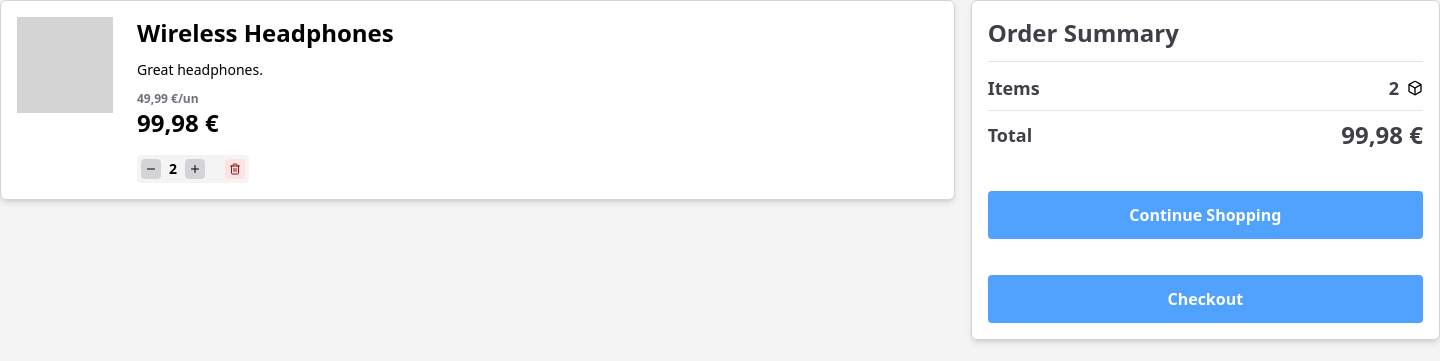
Test: CartFeature › should remove item when remove button is clicked
The width and height of the screenshot is (1440, 361).
What coordinates should you click on to do the following:
click the button named "Remove Wireless Headphones from cart"
I would click on:
 (235, 168)
Its box is [225,158,245,178].
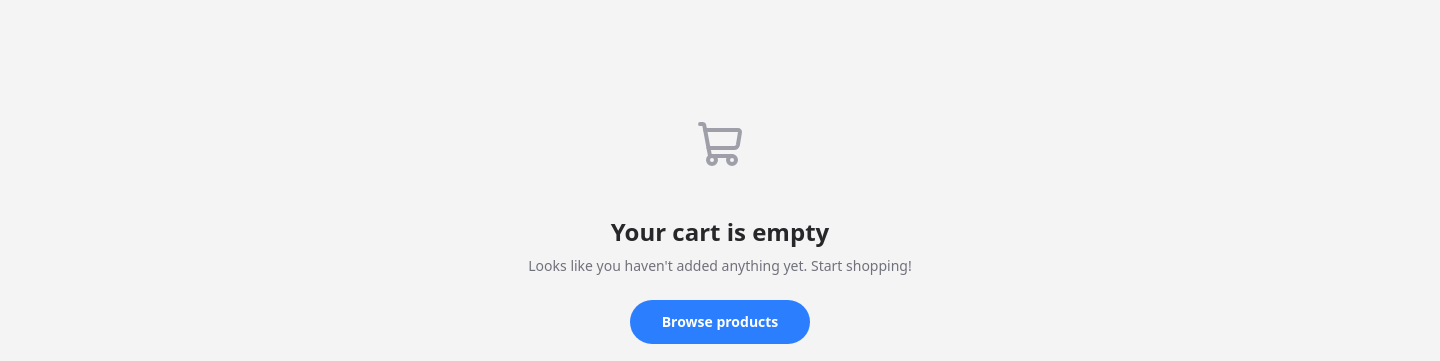
Now the heading "Your cart is empty" is shown, box [611,215,829,248]
